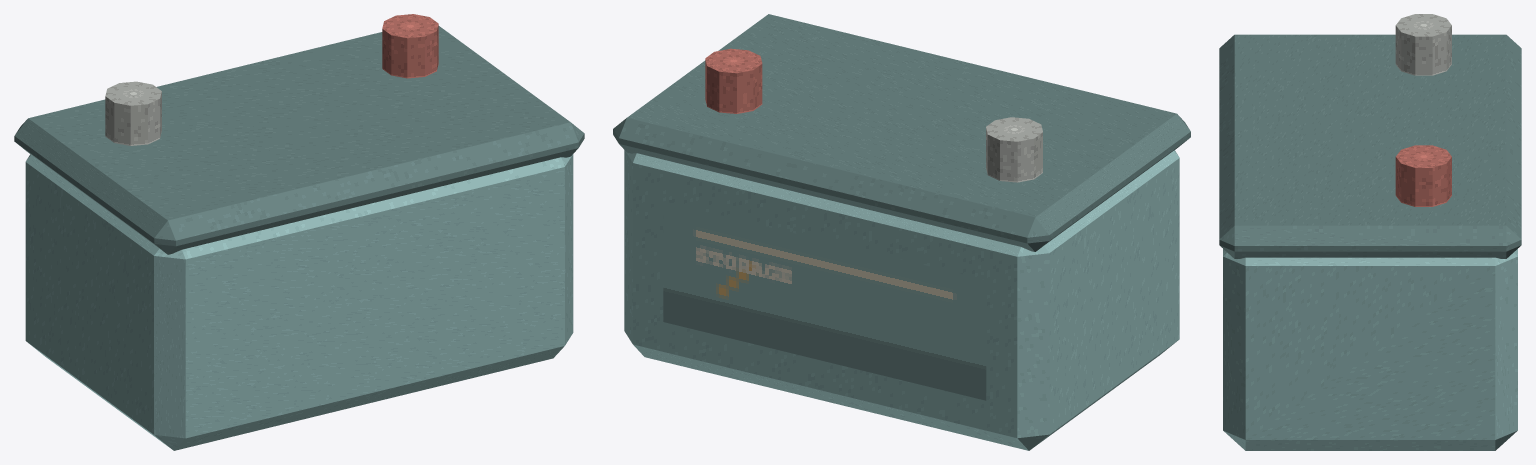
Rendered from storage_battery.glb.
3 views of the same model, side by side, from view 1: azimuth 30°, elevation 25°; view 2: azimuth 150°, elevation 25°; view 3: azimuth 270°, elevation 25° (orthographic). The views are drawn at different scales.
Parts seen in each view (by area): view 1: block_battery casing, block_molded terminal cover, block_post (×2); view 2: block_battery casing, block_molded terminal cover, block_rating label, block_post (×2); view 3: block_molded terminal cover, block_battery casing, block_post (×2).
Boxes of the visible parts, bbox=[...] form: block_battery casing: bbox=[25, 154, 573, 450]; block_molded terminal cover: bbox=[14, 26, 584, 254]; block_post (×2): bbox=[105, 14, 438, 145]; block_battery casing: bbox=[624, 150, 1179, 450]; block_molded terminal cover: bbox=[613, 14, 1190, 251]; block_rating label: bbox=[663, 201, 986, 400]; block_post (×2): bbox=[705, 48, 1042, 182]; block_molded terminal cover: bbox=[1219, 34, 1521, 258]; block_battery casing: bbox=[1223, 249, 1517, 450]; block_post (×2): bbox=[1395, 14, 1451, 206].
Size of the model in its own units: 0.4971 by 0.3066 by 0.3114.
Materials: 1 (1 with a texture image).
